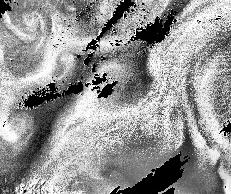CE: (10, 8, 48, 44)
